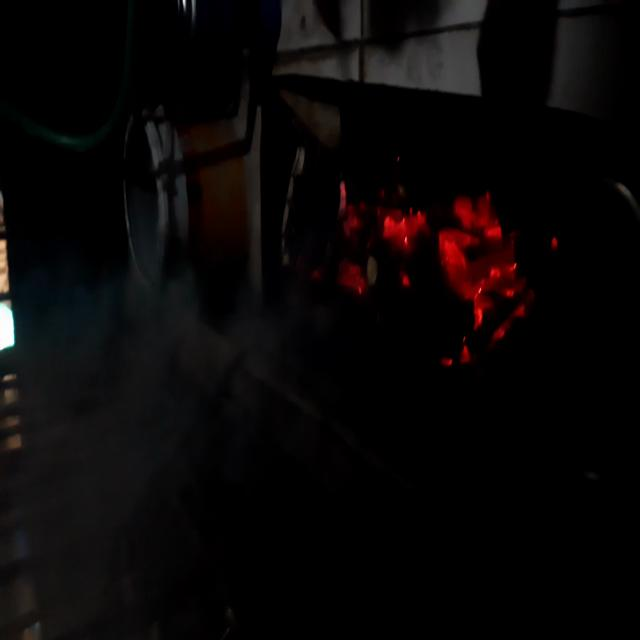Fire: (324, 169, 534, 369)
